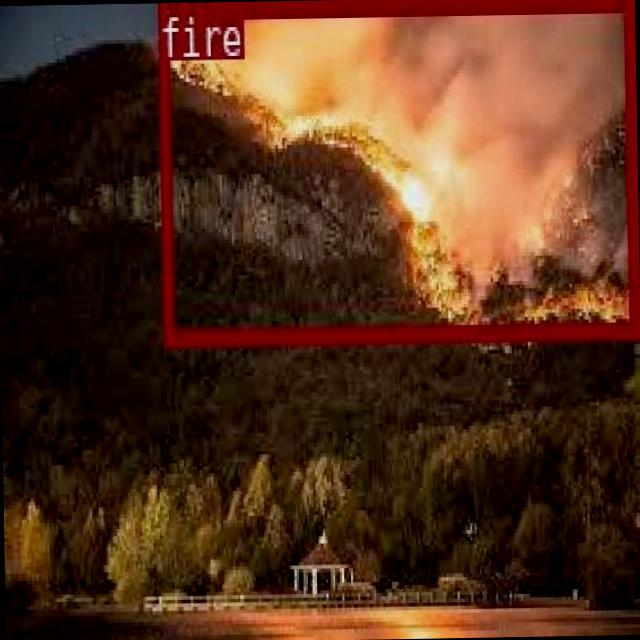fire: (155, 0, 636, 340)
